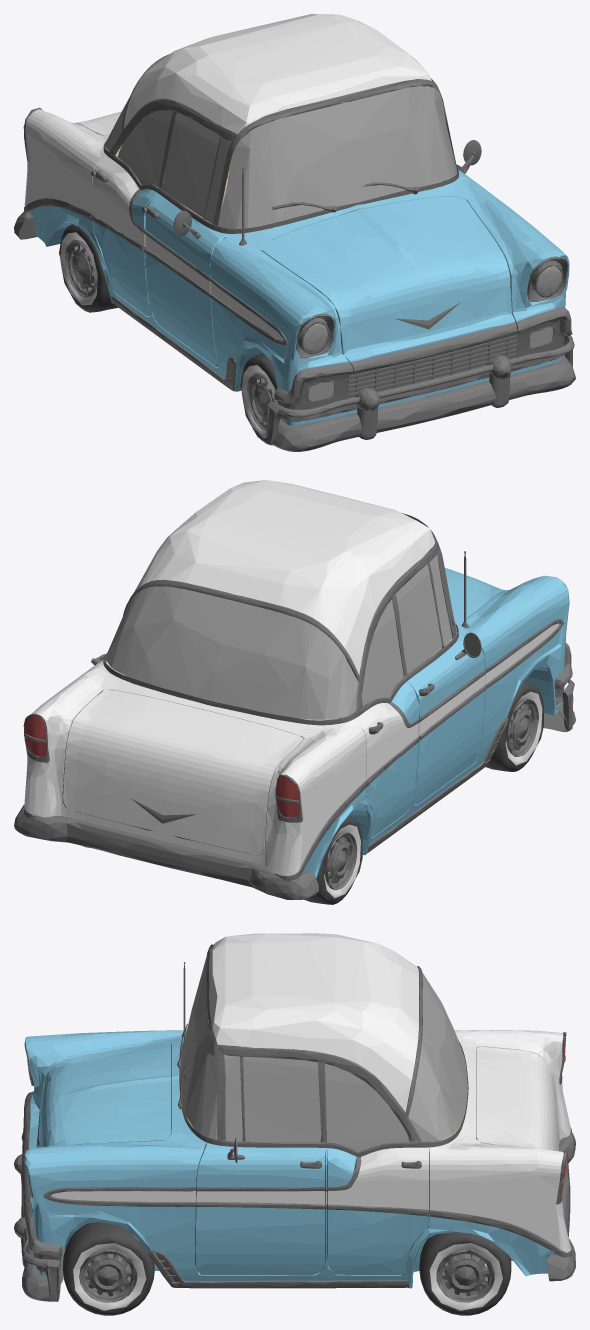
File: car_chb.fbx
The picture shows the model from 3 angles, top to bottom: view 1: azimuth 30°, elevation 25°; view 2: azimuth 150°, elevation 25°; view 3: azimuth 270°, elevation 25°; orthographic projection.
Visible parts, largest first — view 1: Line66; view 2: Line66; view 3: Line66.
Part boxes in pixels (x1,y1,x2,y2): Line66: [14, 14, 575, 451]; Line66: [14, 480, 575, 904]; Line66: [14, 933, 575, 1315].
Size of the model in its own units: 169 by 152 by 272.
